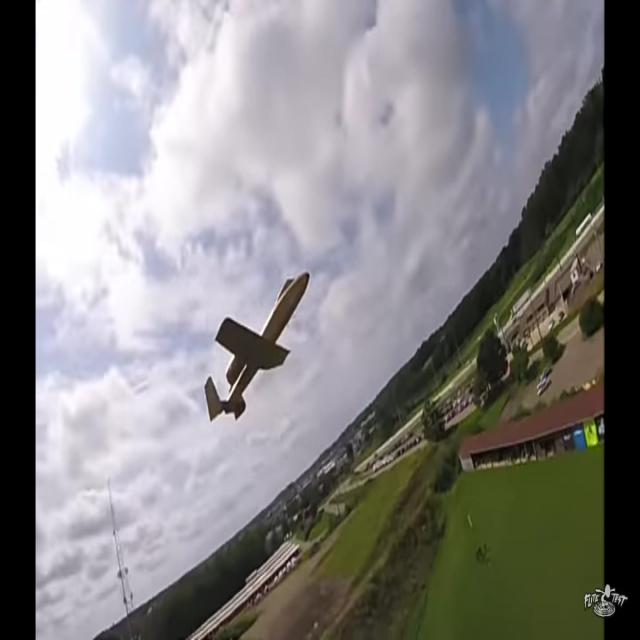iha: (235, 271, 278, 425)
